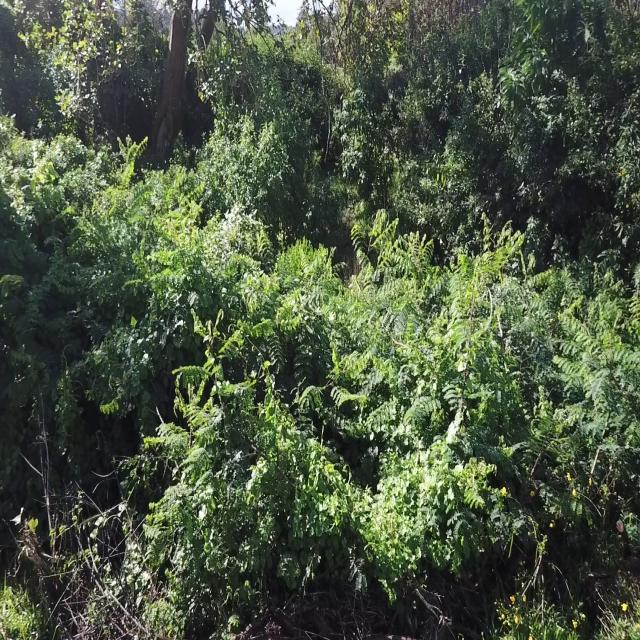Mysore-Thorn-Weed: (153, 317, 301, 580), (428, 230, 522, 482), (545, 259, 640, 476), (338, 212, 428, 429), (66, 143, 154, 281), (144, 162, 210, 302)
